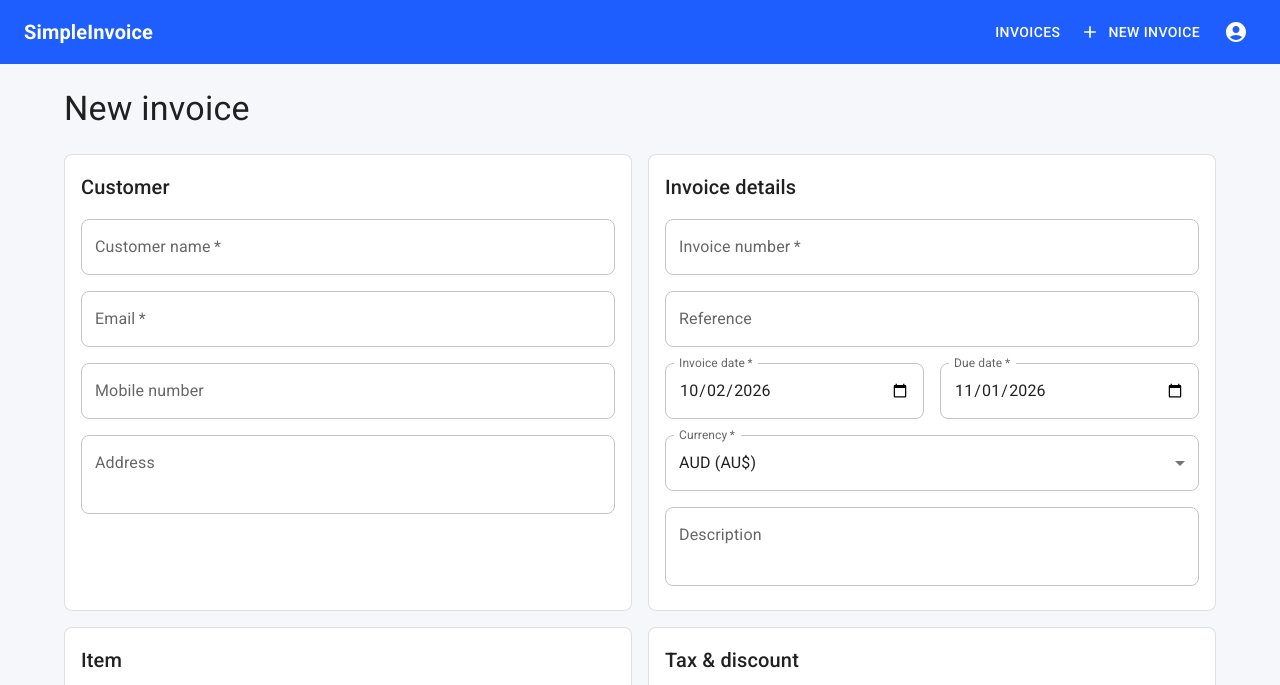
Test: CreateInvoicePage › checks the Due Date again when the Invoice Date changes
Step 1. Type "2026-10-01" into the date field labelled "Due date *" → (1070, 391), box top-left (940, 363), bottom-right (1199, 419)
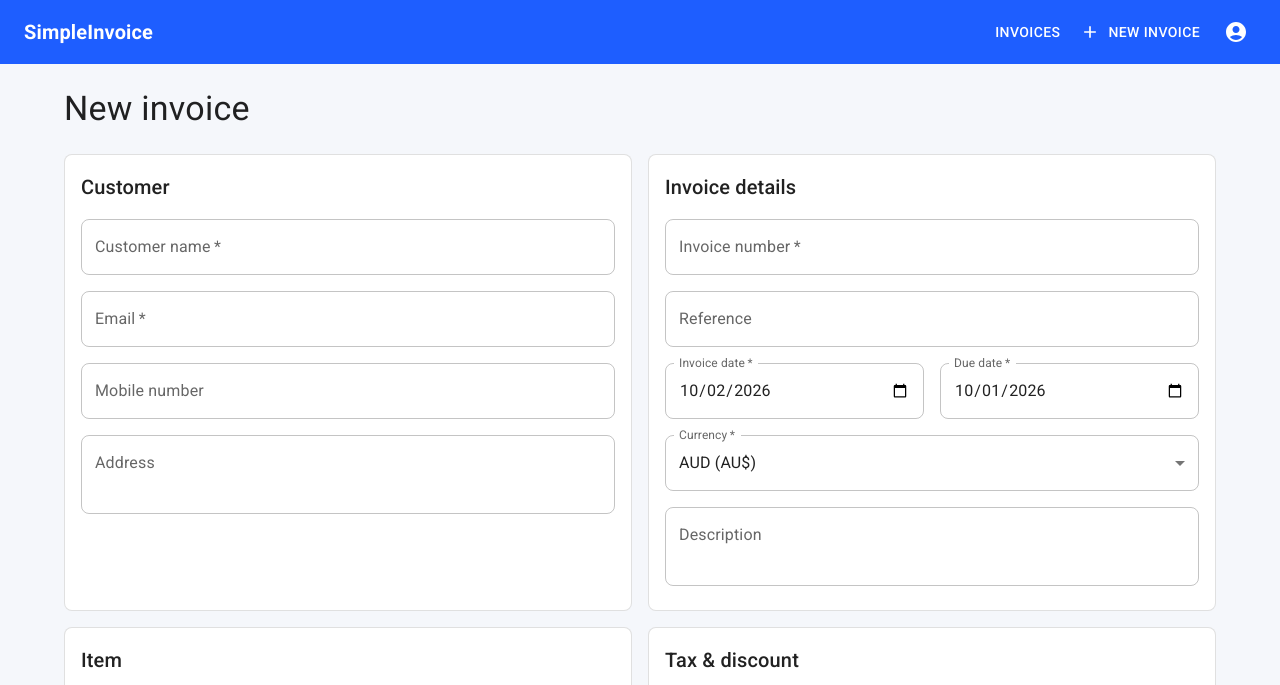
Step 2. Leave the date field labelled "Due date *", box top-left (940, 363), bottom-right (1199, 419)
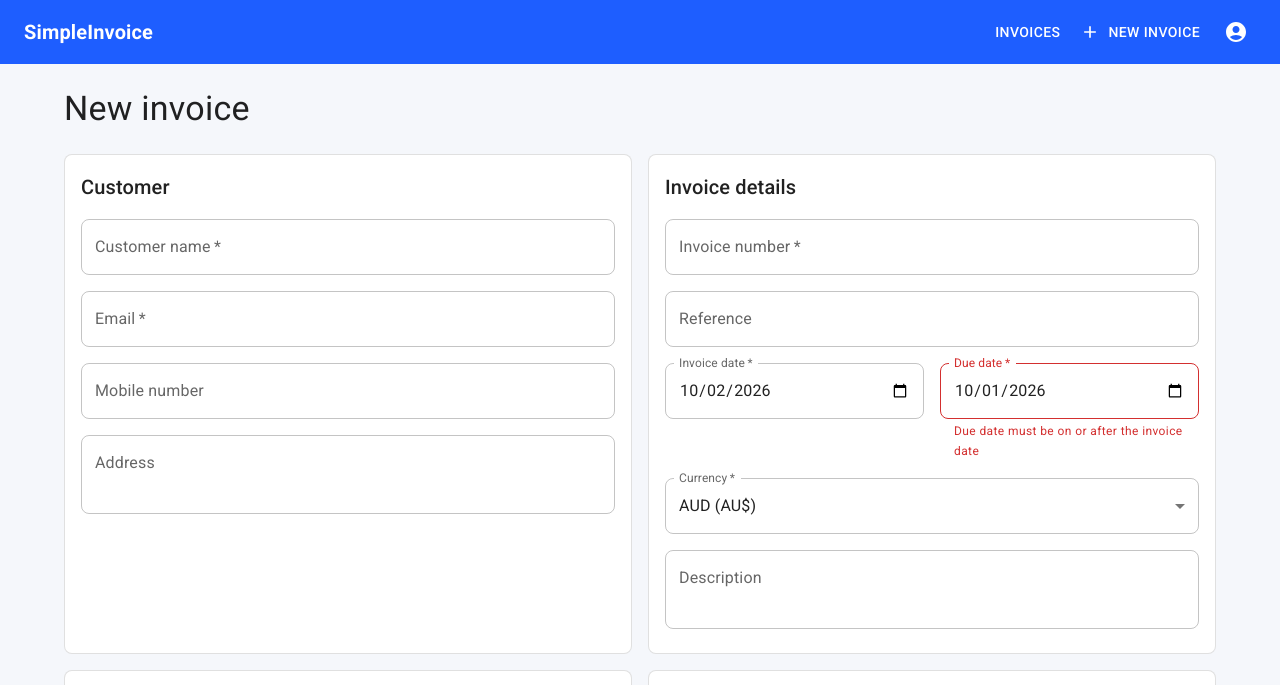
Check: the text "Due date must be on or after the invoice date" is shown, box top-left (954, 422), bottom-right (1185, 462)
Step 3. Type "2026-09-30" into the date field labelled "Invoice date *" → (794, 391), box top-left (665, 363), bottom-right (924, 419)
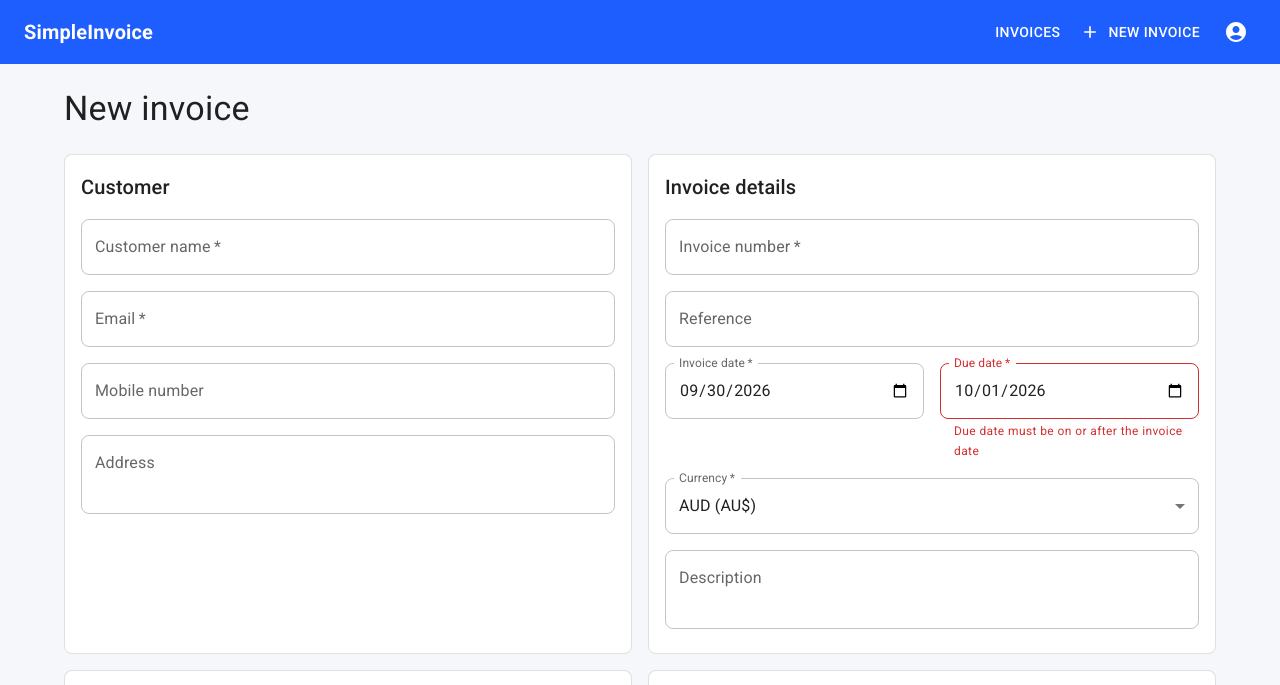
Step 4. Leave the date field labelled "Invoice date *", box top-left (665, 363), bottom-right (924, 419)
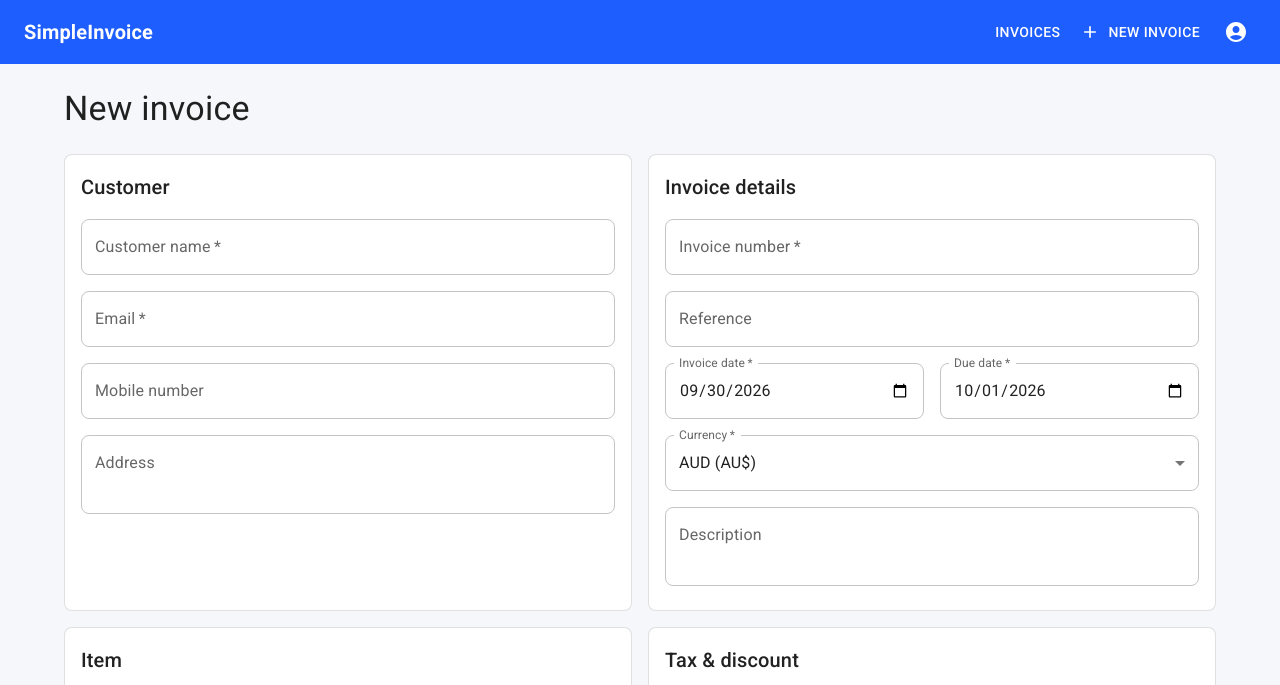
Check: the text "Due date must be on or after the invoice date" is gone
Step 5. Type "2026-10-05" into the date field labelled "Invoice date *" → (794, 391), box top-left (665, 363), bottom-right (924, 419)
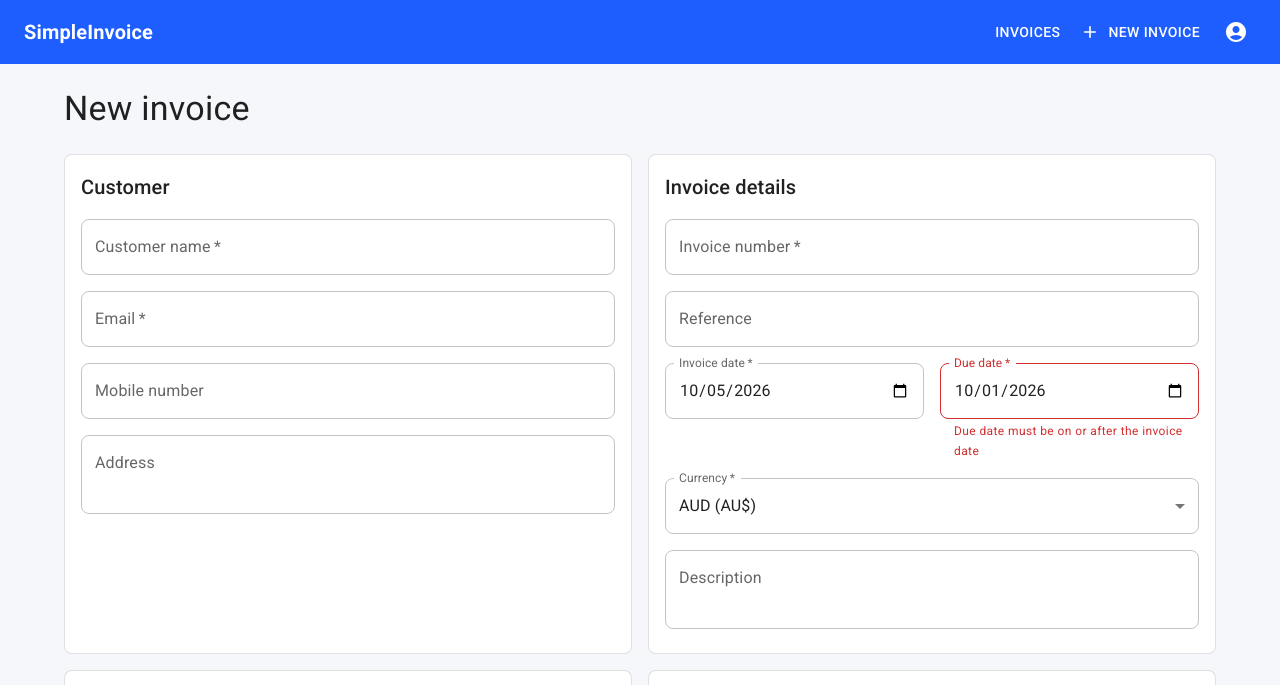
Check: the text "Due date must be on or after the invoice date" is shown, box top-left (954, 422), bottom-right (1185, 462)
